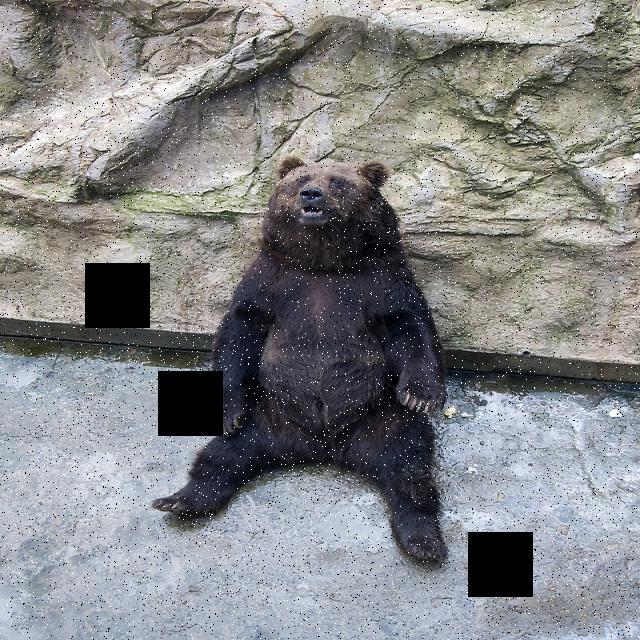Bear: (157, 138, 458, 567)
